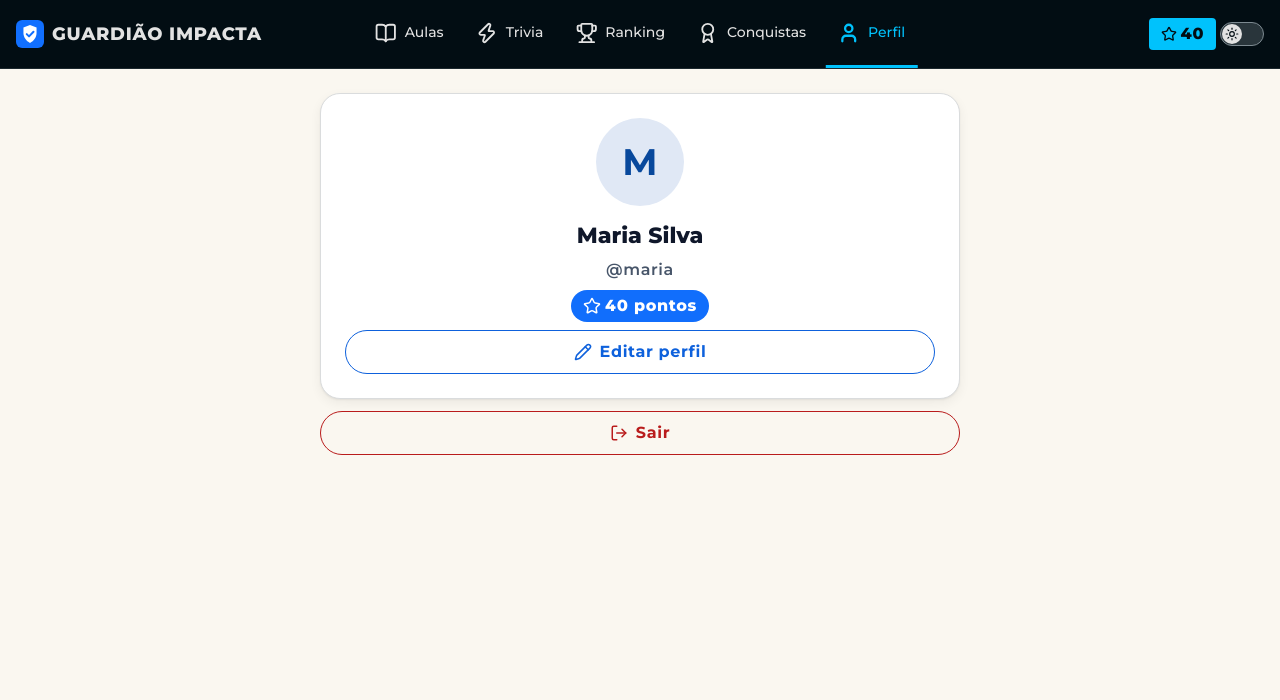
Perfil › erros por campo e erro geral
The image size is (1280, 700).
Expected: the navigation bar named "Navegação principal" is shown, top-left (363, 0), bottom-right (917, 68)
Click the button "Editar perfil" at x=640, y=352, box top-left (345, 330), bottom-right (935, 374)
(page scrolled)
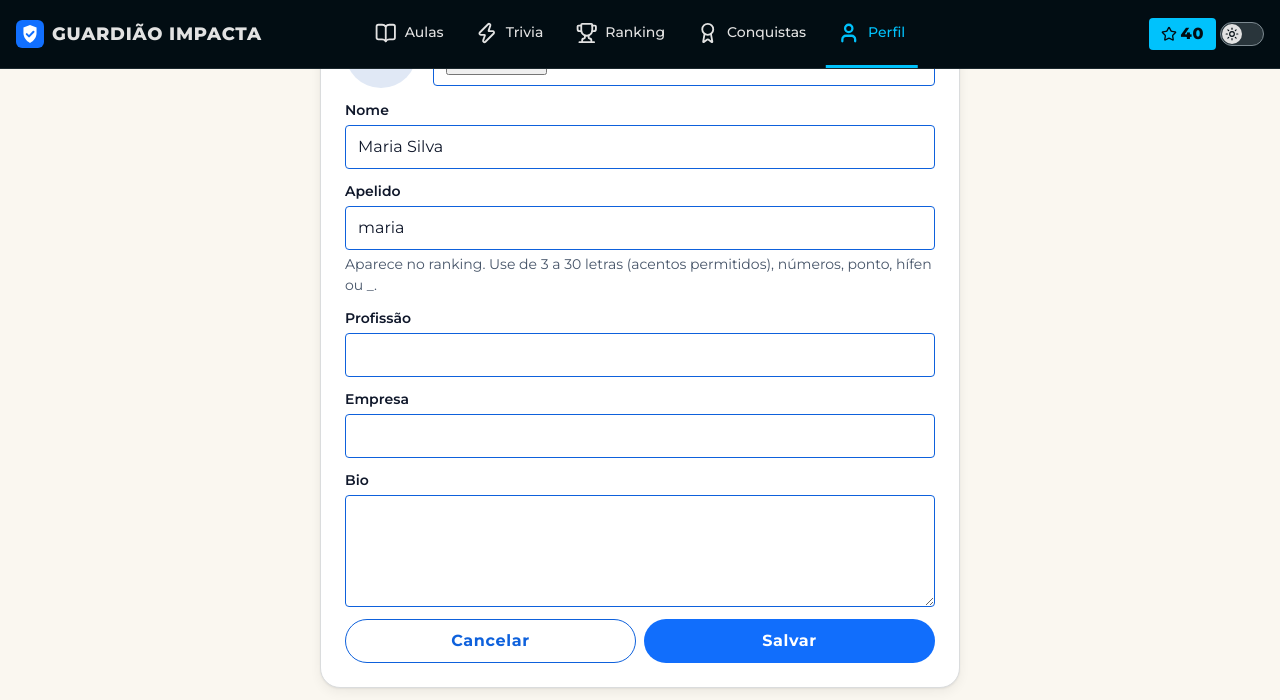
Click the button "Salvar" at x=790, y=640, box top-left (644, 618), bottom-right (935, 662)
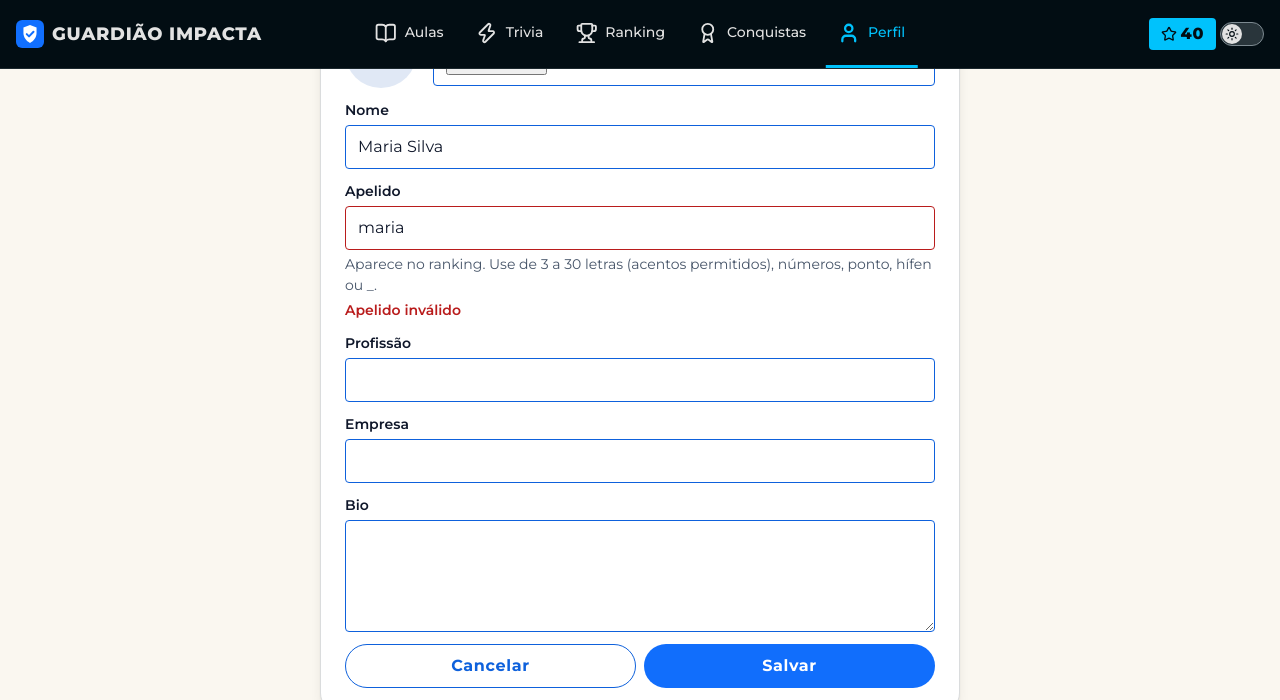
Expected: the text "Apelido inválido" is shown, top-left (345, 300), bottom-right (461, 318)
Click the button "Salvar" at x=790, y=666, box top-left (644, 644), bottom-right (935, 688)
(page scrolled)
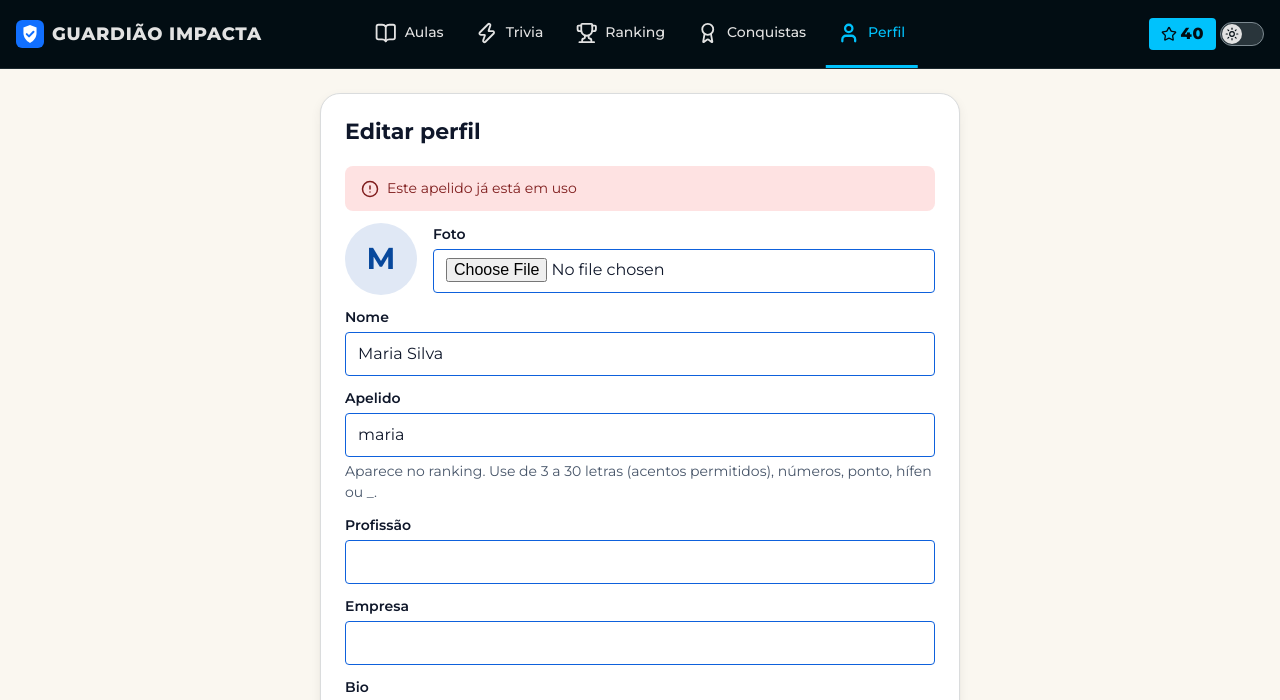
Expected: the message reads "Este apelido já está em uso", top-left (387, 178), bottom-right (577, 196)
